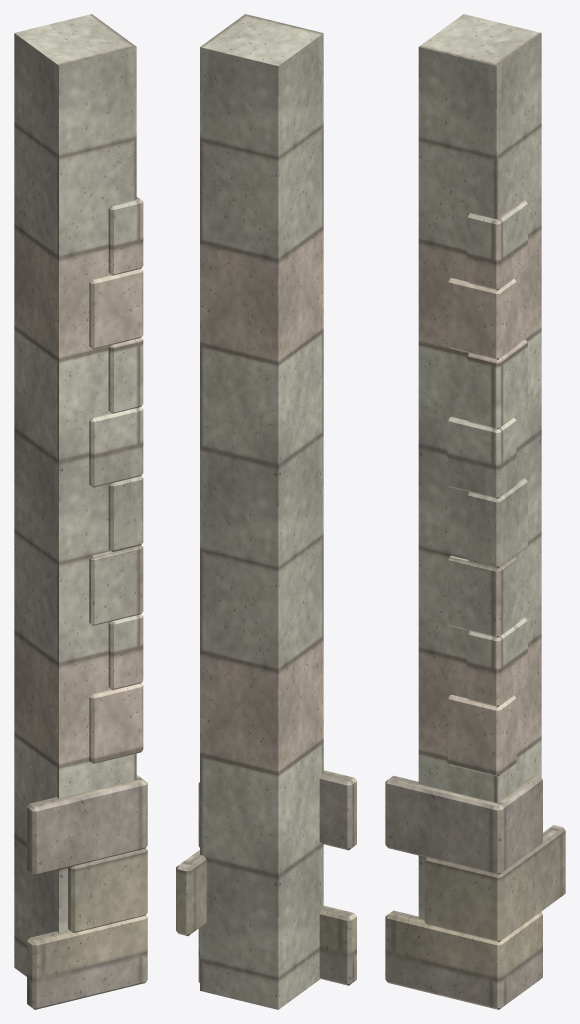
The model's file is corner.glb.
3 renders of one model, left to right at view 1: azimuth 30°, elevation 25°; view 2: azimuth 150°, elevation 25°; view 3: azimuth 330°, elevation 25°, orthographic.
Parts seen in each view (by area): view 1: corner_stone, corner_stone_r; view 2: corner_stone, corner_stone_r; view 3: corner_stone, corner_stone_r.
Part boxes in pixels (bbox=[...]): corner_stone: bbox=[14, 14, 143, 976]; corner_stone_r: bbox=[27, 775, 147, 1009]; corner_stone: bbox=[200, 14, 323, 1009]; corner_stone_r: bbox=[176, 770, 356, 985]; corner_stone: bbox=[418, 14, 541, 919]; corner_stone_r: bbox=[385, 775, 565, 1009].
Size of the model in its own units: 0.595 by 4.6 by 0.595.
Materials: 2 (2 with a texture image).
